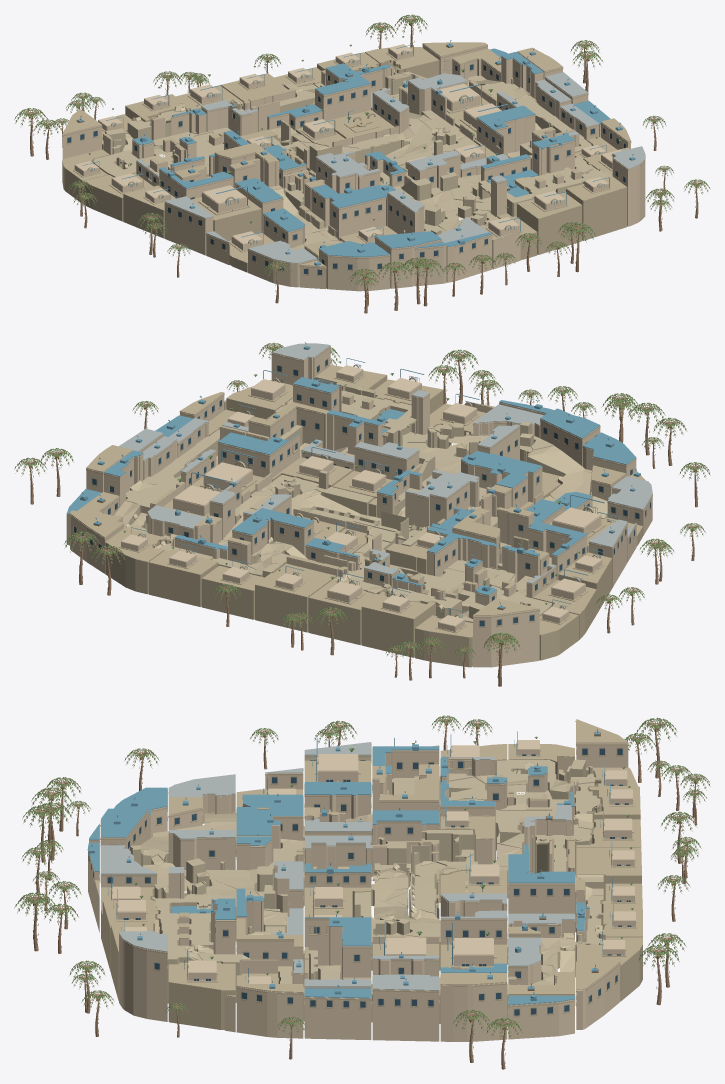
File: mirage.glb
3 renders of one model, top to bottom at view 1: azimuth 30°, elevation 25°; view 2: azimuth 150°, elevation 25°; view 3: azimuth 270°, elevation 25°, orthographic. The views are drawn at different scales.
Visible parts, largest first — view 1: ARENA_lower_wall, ARENA_lower_stone, ARENA_lower_paving, ARENA_lower_metal, ARENA_lower_roof, ARENA_lower_leaf, ARENA_lower_bark, ARENA_lower_glass; view 2: ARENA_lower_wall, ARENA_lower_stone, ARENA_lower_paving, ARENA_lower_metal, ARENA_lower_roof, ARENA_lower_leaf, ARENA_lower_bark, ARENA_lower_glass; view 3: ARENA_lower_wall, ARENA_lower_stone, ARENA_lower_paving, ARENA_lower_metal, ARENA_lower_roof, ARENA_lower_leaf, ARENA_lower_bark, ARENA_lower_glass.
Boxes of the visible parts, <box> form: ARENA_lower_wall: <box>62,44,645,291</box>; ARENA_lower_stone: <box>62,42,645,276</box>; ARENA_lower_paving: <box>93,61,612,249</box>; ARENA_lower_metal: <box>77,40,635,266</box>; ARENA_lower_roof: <box>136,72,645,263</box>; ARENA_lower_leaf: <box>15,14,709,287</box>; ARENA_lower_bark: <box>14,15,710,313</box>; ARENA_lower_glass: <box>67,64,625,274</box>; ARENA_lower_wall: <box>66,346,652,667</box>; ARENA_lower_stone: <box>66,346,652,667</box>; ARENA_lower_paving: <box>114,383,607,622</box>; ARENA_lower_metal: <box>66,342,640,617</box>; ARENA_lower_roof: <box>119,343,652,583</box>; ARENA_lower_leaf: <box>15,342,709,658</box>; ARENA_lower_bark: <box>14,343,710,686</box>; ARENA_lower_glass: <box>74,359,650,626</box>; ARENA_lower_wall: <box>88,740,637,1041</box>; ARENA_lower_stone: <box>87,719,642,1029</box>; ARENA_lower_paving: <box>130,759,603,1023</box>; ARENA_lower_metal: <box>88,729,613,1005</box>; ARENA_lower_roof: <box>101,742,574,990</box>; ARENA_lower_leaf: <box>15,715,709,1037</box>; ARENA_lower_bark: <box>14,716,710,1069</box>; ARENA_lower_glass: <box>88,748,631,1015</box>.
Size of what is drawn, in the model's own units: 70.34 by 8.41 by 63.62.
